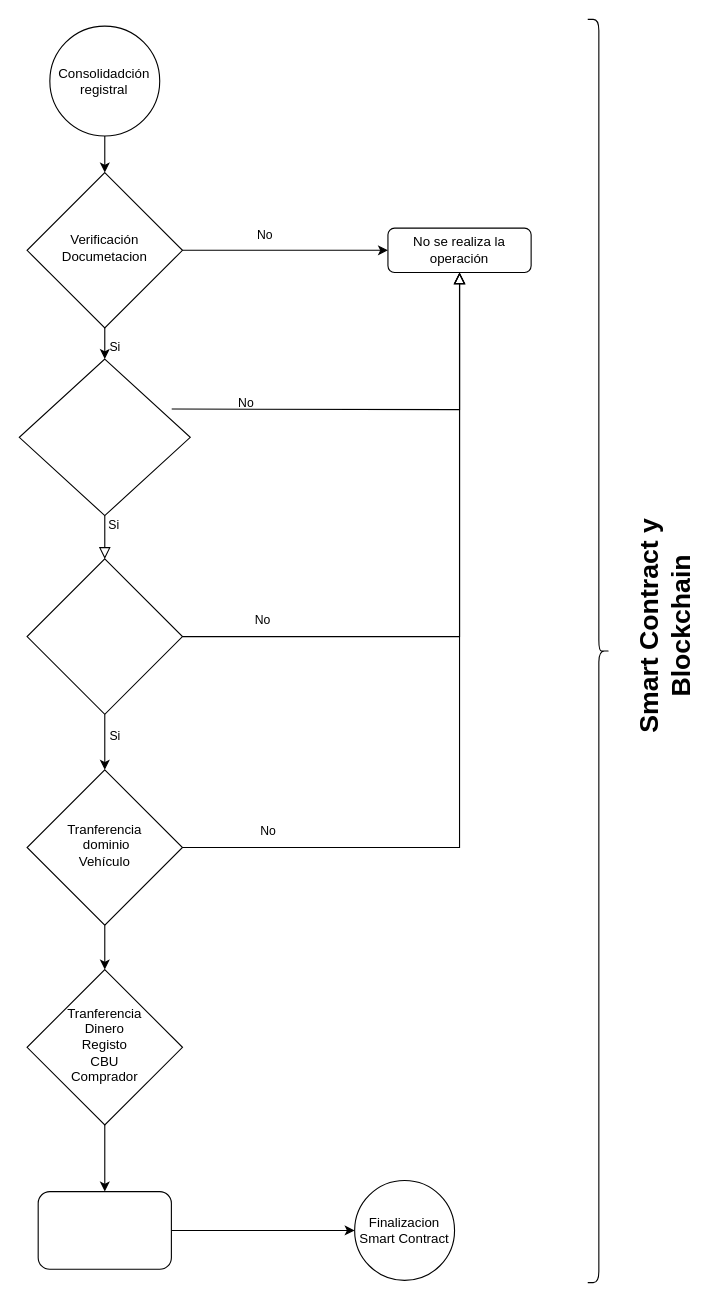
The diagram is 717 pixels wide and 1302 high, and some of its shapes have lost their labels. The shapes that lost their labels are listed below. From the top down, each one's box as (x1, y1, x2, y2) in pixels, then its label:
(18, 358, 190, 516): Recepcion documentacion Particula del Vehículo
(26, 558, 182, 714): Tranferencia Dinero Comprador CBU Registro
(37, 1190, 171, 1269): Se cumplimentan las clausulas dentro del Smart Contract
